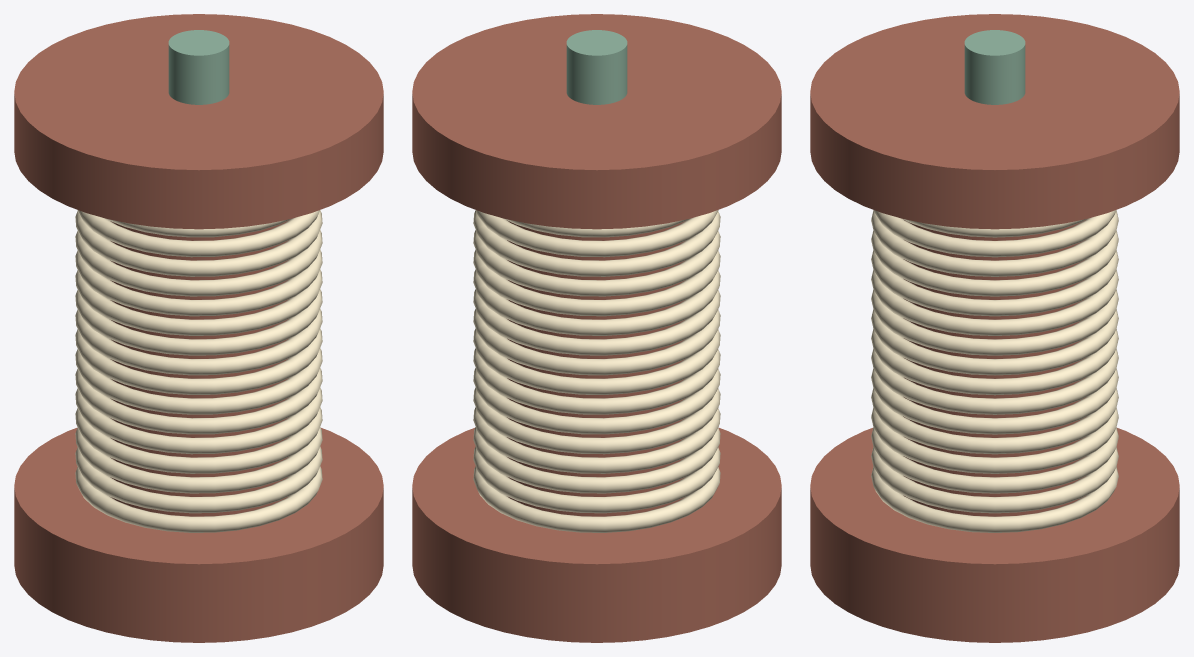
Rendered from enchanted-harp-garden-and-music-sanctuary-harp-string--b0a7e59b__30405.glb.
3 renders of one model, left to right at view 1: azimuth 30°, elevation 25°; view 2: azimuth 150°, elevation 25°; view 3: azimuth 270°, elevation 25°, orthographic.
Visible parts, largest first — view 1: harp-string-reel; view 2: harp-string-reel; view 3: harp-string-reel.
Part boxes in pixels (x1,y1,x2,y2): harp-string-reel: (14,14,383,642); harp-string-reel: (412,14,781,642); harp-string-reel: (810,14,1179,642).
Size of the model in its own units: 0.17 by 0.265 by 0.17.
